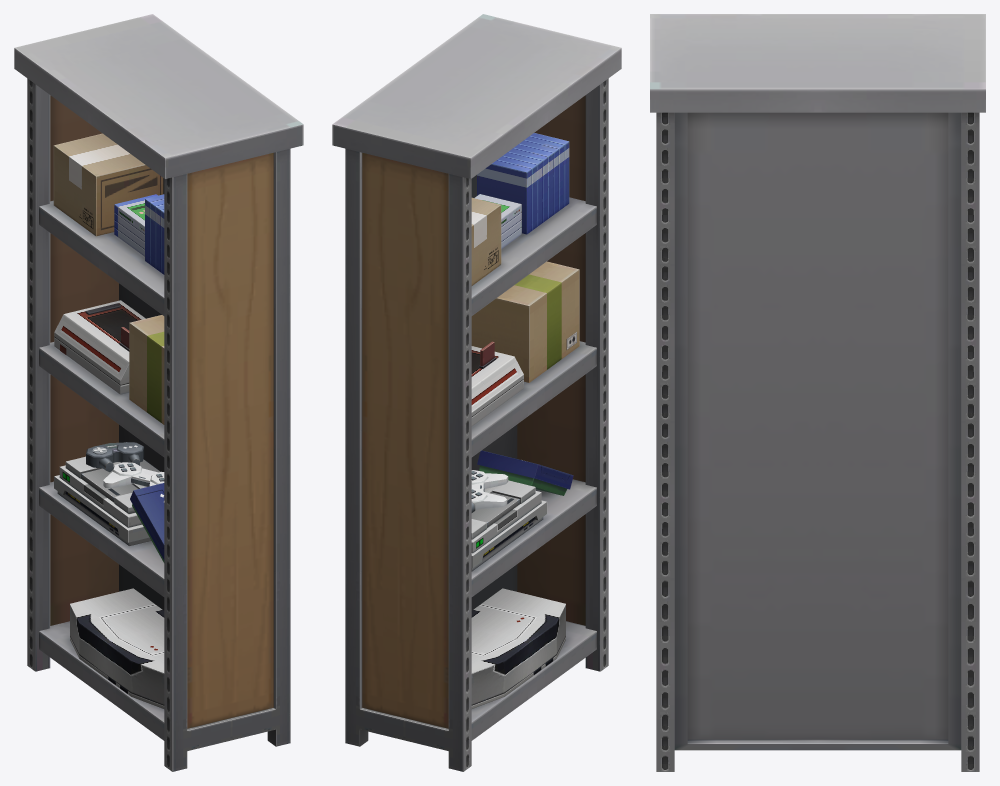
File: my_gamedevdept_01_shelf_03.glb
3 views of the same model, side by side, from view 1: azimuth 30°, elevation 25°; view 2: azimuth 150°, elevation 25°; view 3: azimuth 270°, elevation 25° (orthographic). The views are drawn at different scales.
Parts seen in each view (by area): view 1: my_gamedevdept_01_shelf_03; view 2: my_gamedevdept_01_shelf_03; view 3: my_gamedevdept_01_shelf_03.
Part boxes in pixels (left/top/right/bottom): my_gamedevdept_01_shelf_03: left=14, top=14, right=303, bottom=771; my_gamedevdept_01_shelf_03: left=332, top=14, right=621, bottom=771; my_gamedevdept_01_shelf_03: left=650, top=14, right=985, bottom=771.
Bounding box in the file's own units: 0.00303 × 0.0129 × 0.00572.
1 material, 1 textured.
